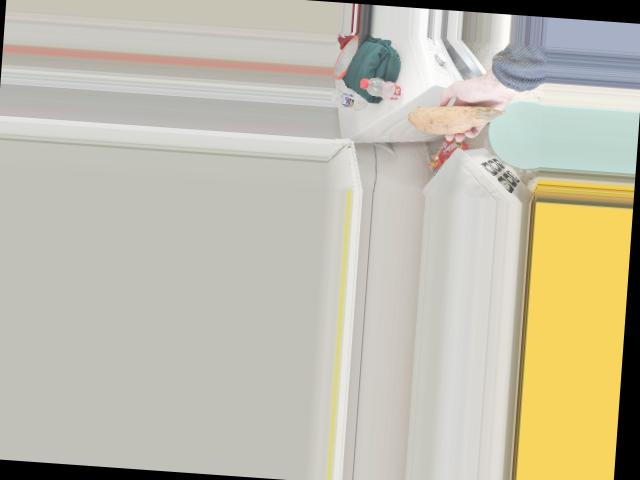sweet_potato: (416, 99, 495, 138)
